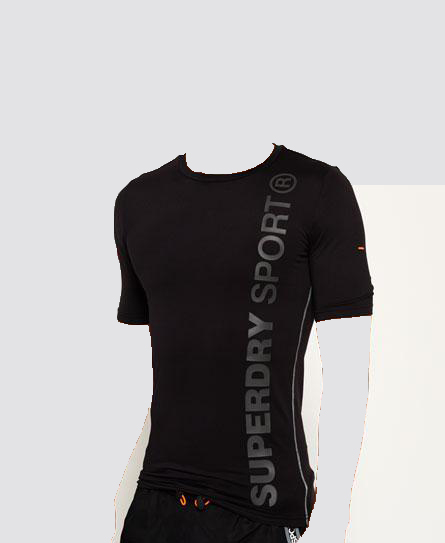teeshirt: (107, 142, 385, 528)
